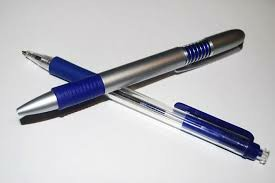pen: (114, 93, 273, 164), (122, 26, 247, 82), (18, 78, 107, 119), (26, 51, 86, 78)
